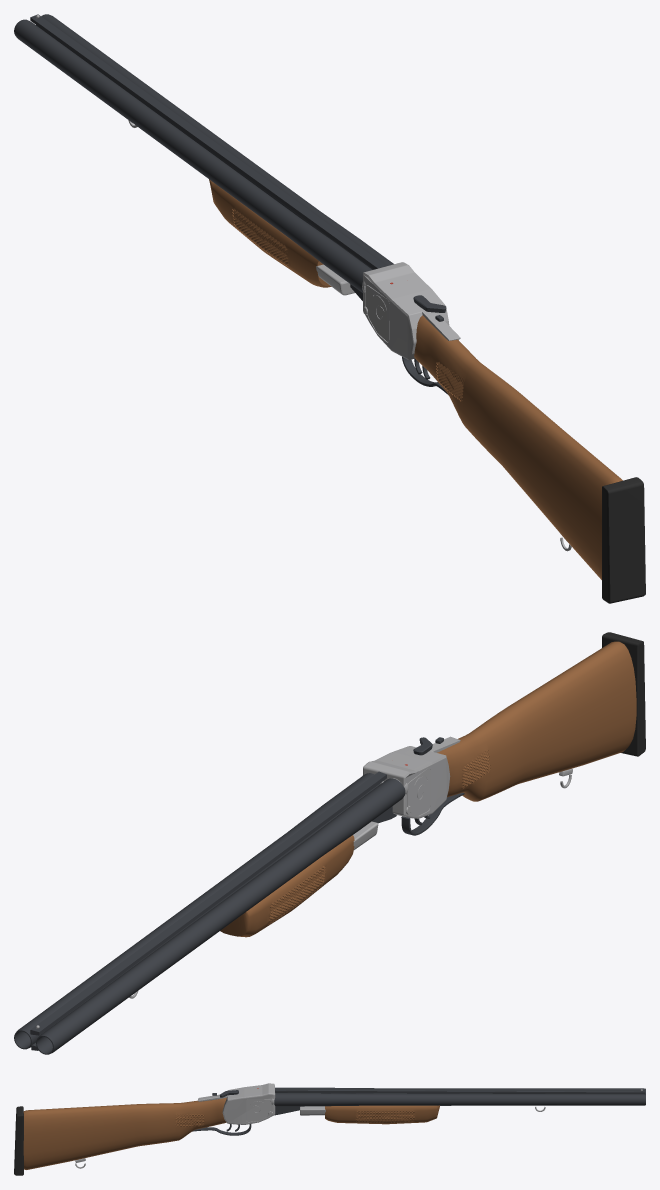
The model's file is toz_double.glb.
3 views of the same model, one above another, from view 1: azimuth 30°, elevation 25°; view 2: azimuth 150°, elevation 25°; view 3: azimuth 270°, elevation 25° (orthographic). The views are drawn at different scales.
Visible parts, largest first — view 1: barrels, static_butt, static; view 2: barrels, static_butt, static; view 3: barrels, static_butt, static.
Part boxes in pixels (left/top/right/bottom): barrels: left=14, top=14, right=393, bottom=300; static_butt: left=462, top=363, right=645, bottom=603; static: left=362, top=262, right=480, bottom=428; barrels: left=14, top=771, right=405, bottom=1054; static_butt: left=473, top=632, right=645, bottom=799; static: left=363, top=731, right=490, bottom=835; barrels: left=274, top=1087, right=645, bottom=1124; static_butt: left=14, top=1103, right=175, bottom=1175; static: left=175, top=1083, right=275, bottom=1140.
Size of the model in its own units: 0.0526 by 0.1739 by 1.2.
